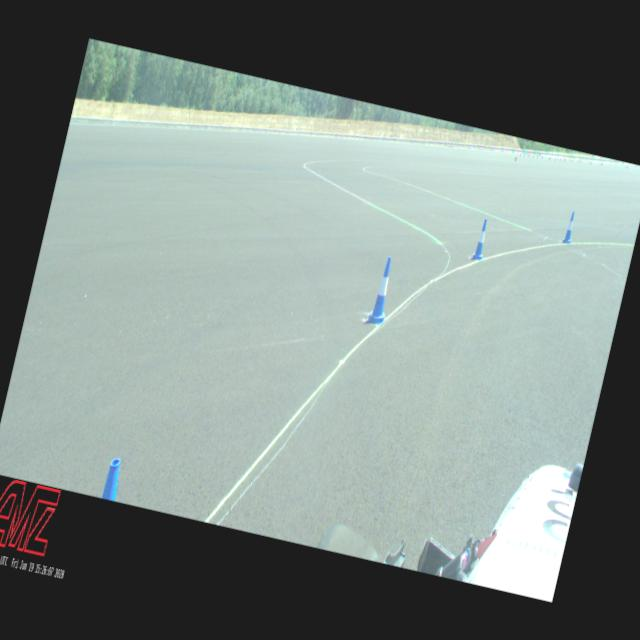blue_cone: (366, 254, 398, 324), (471, 218, 490, 260), (562, 210, 577, 243)
